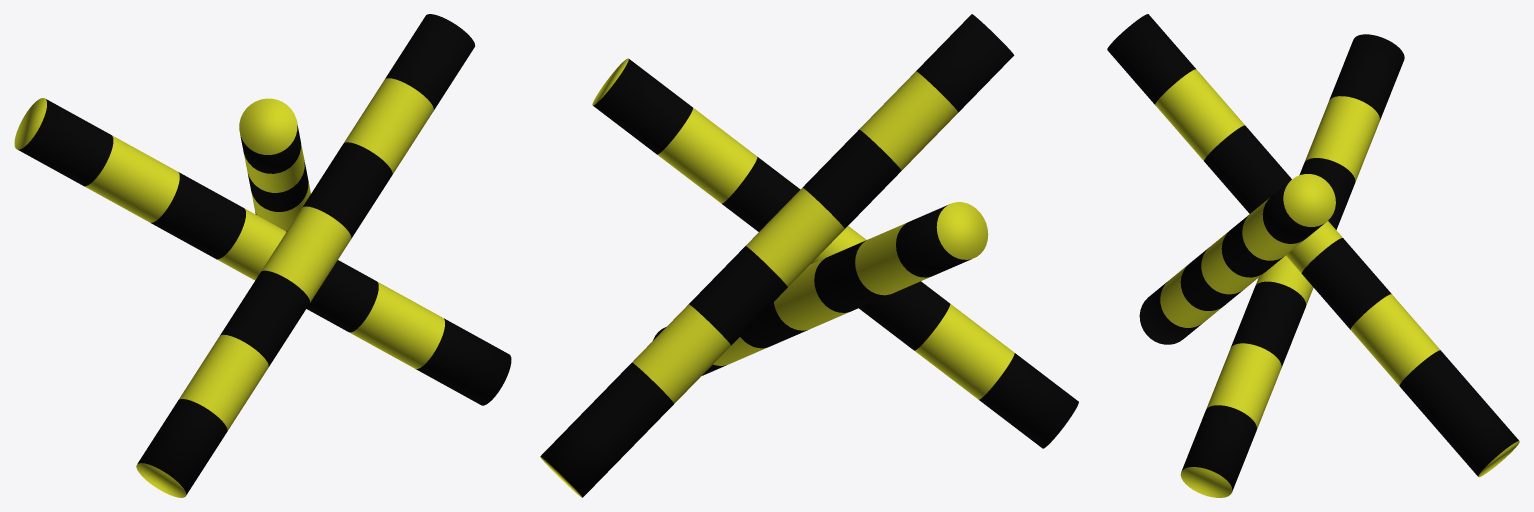
Rendered from Ouriço - 01.fbx.
3 views of the same model, side by side, from view 1: azimuth 30°, elevation 25°; view 2: azimuth 150°, elevation 25°; view 3: azimuth 270°, elevation 25° (orthographic). The views are drawn at different scales.
Visible parts, largest first — view 1: Círculo.013; view 2: Círculo.013; view 3: Círculo.013.
Boxes of the visible parts, x1=… form: Círculo.013: x1=14, y1=14, x2=511, y2=497; Círculo.013: x1=540, y1=14, x2=1078, y2=497; Círculo.013: x1=1107, y1=14, x2=1519, y2=497.
Size of the model in its own units: 145 by 131 by 133.
